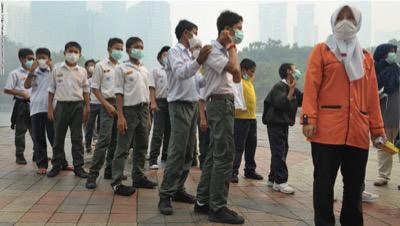mask_weared_incorrect: (245, 68, 256, 81)
with_mask: (334, 11, 358, 40), (230, 24, 243, 45), (65, 48, 80, 64), (130, 44, 144, 60), (111, 46, 124, 62), (384, 49, 397, 64), (188, 29, 198, 48), (37, 55, 49, 69), (192, 45, 203, 60), (24, 55, 34, 70), (291, 66, 300, 82), (88, 63, 95, 73)
